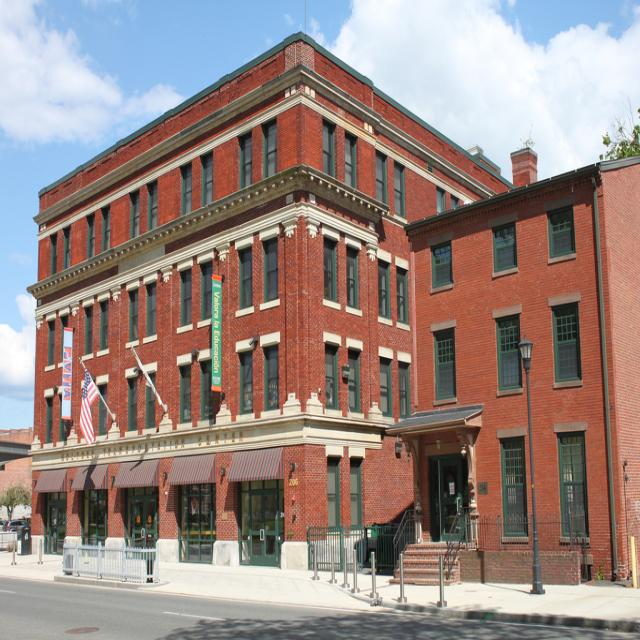no_fire: (30, 72, 618, 578)
